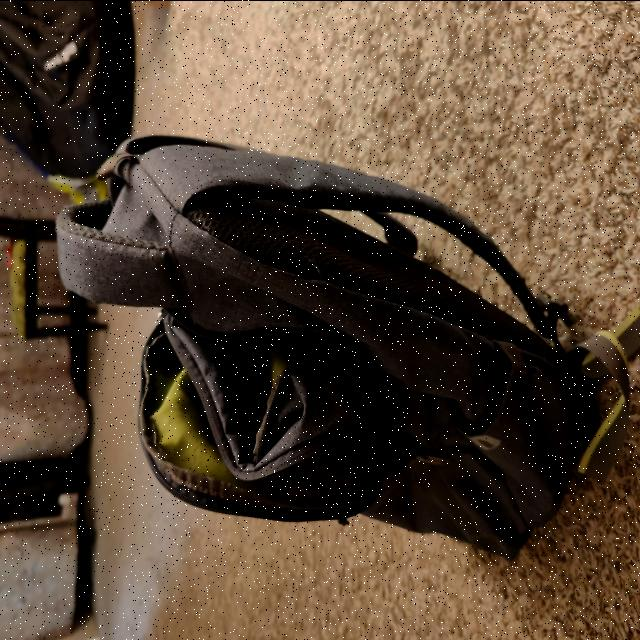bag: (59, 133, 603, 559)
